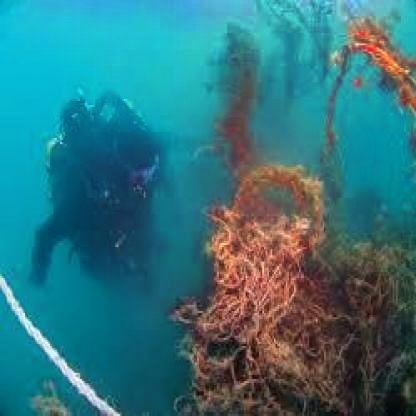net: (197, 169, 404, 416)
